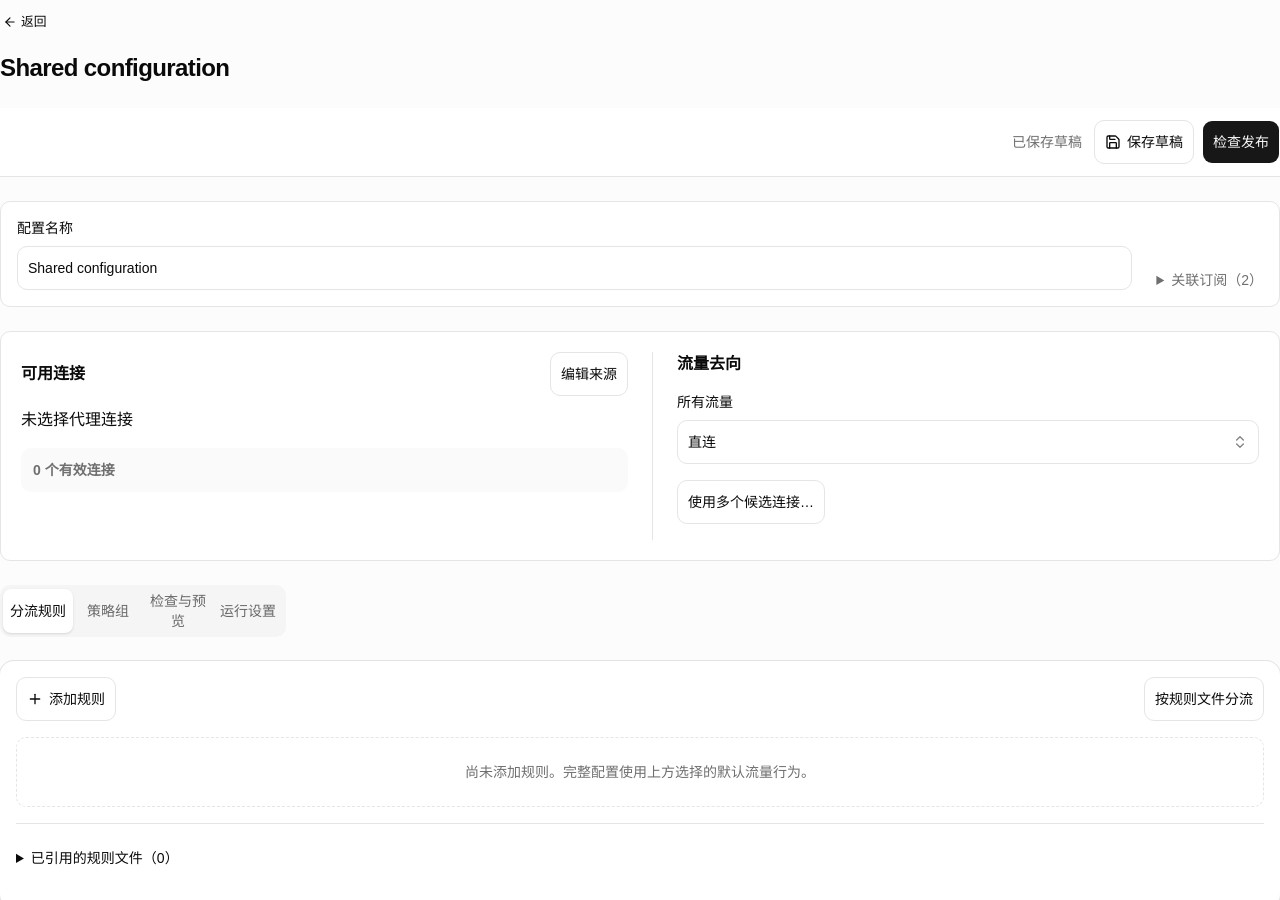
Test case: requires an explicit client link when editing an unbound shared configuration
Click the button "检查发布".
click(1241, 142)  # box [1202, 120, 1279, 164]
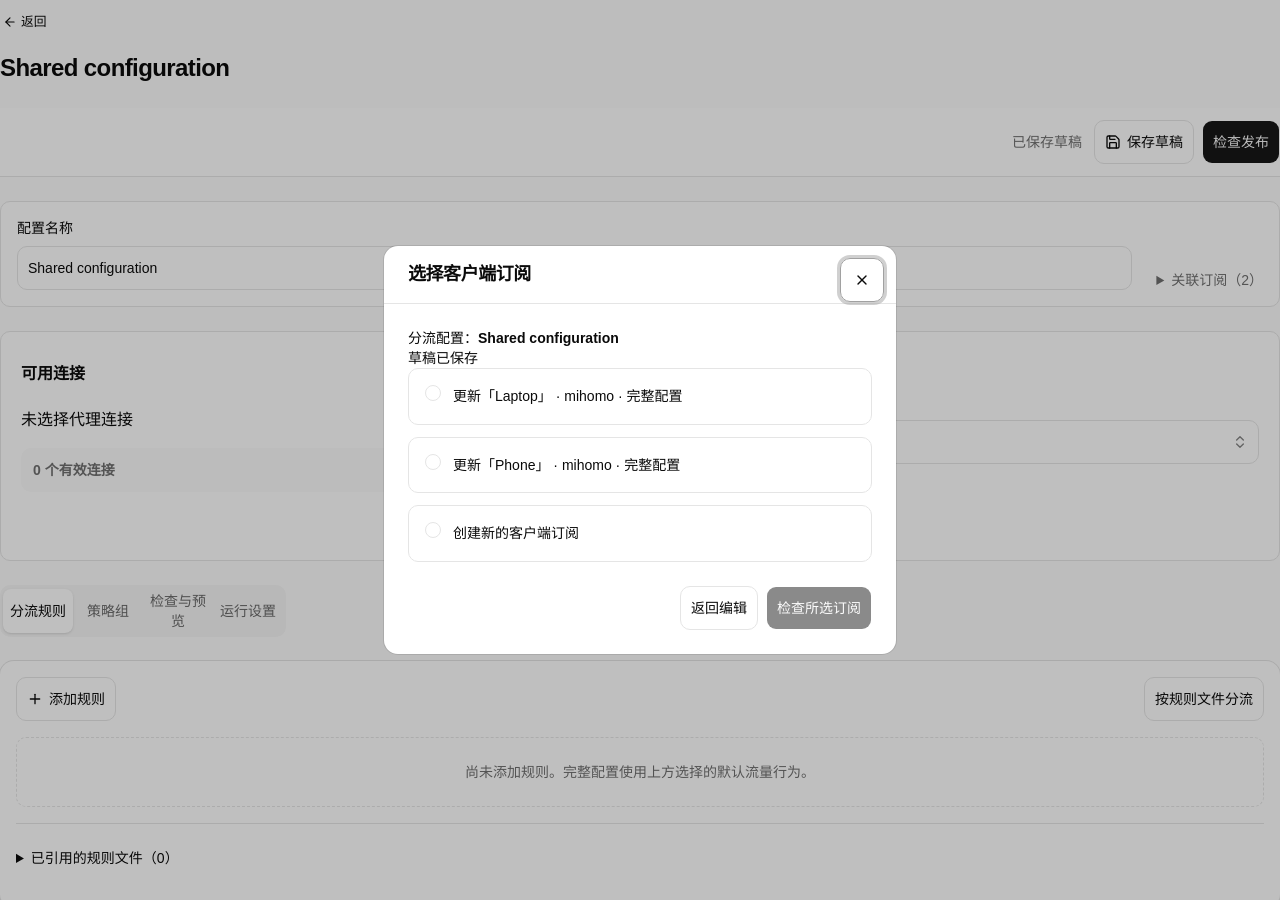
Check: the radio button named "Laptop" in the row of "Laptop" is shown, box [425, 385, 441, 401]
Check: the button "检查所选订阅" is disabled, box [766, 586, 872, 630]
